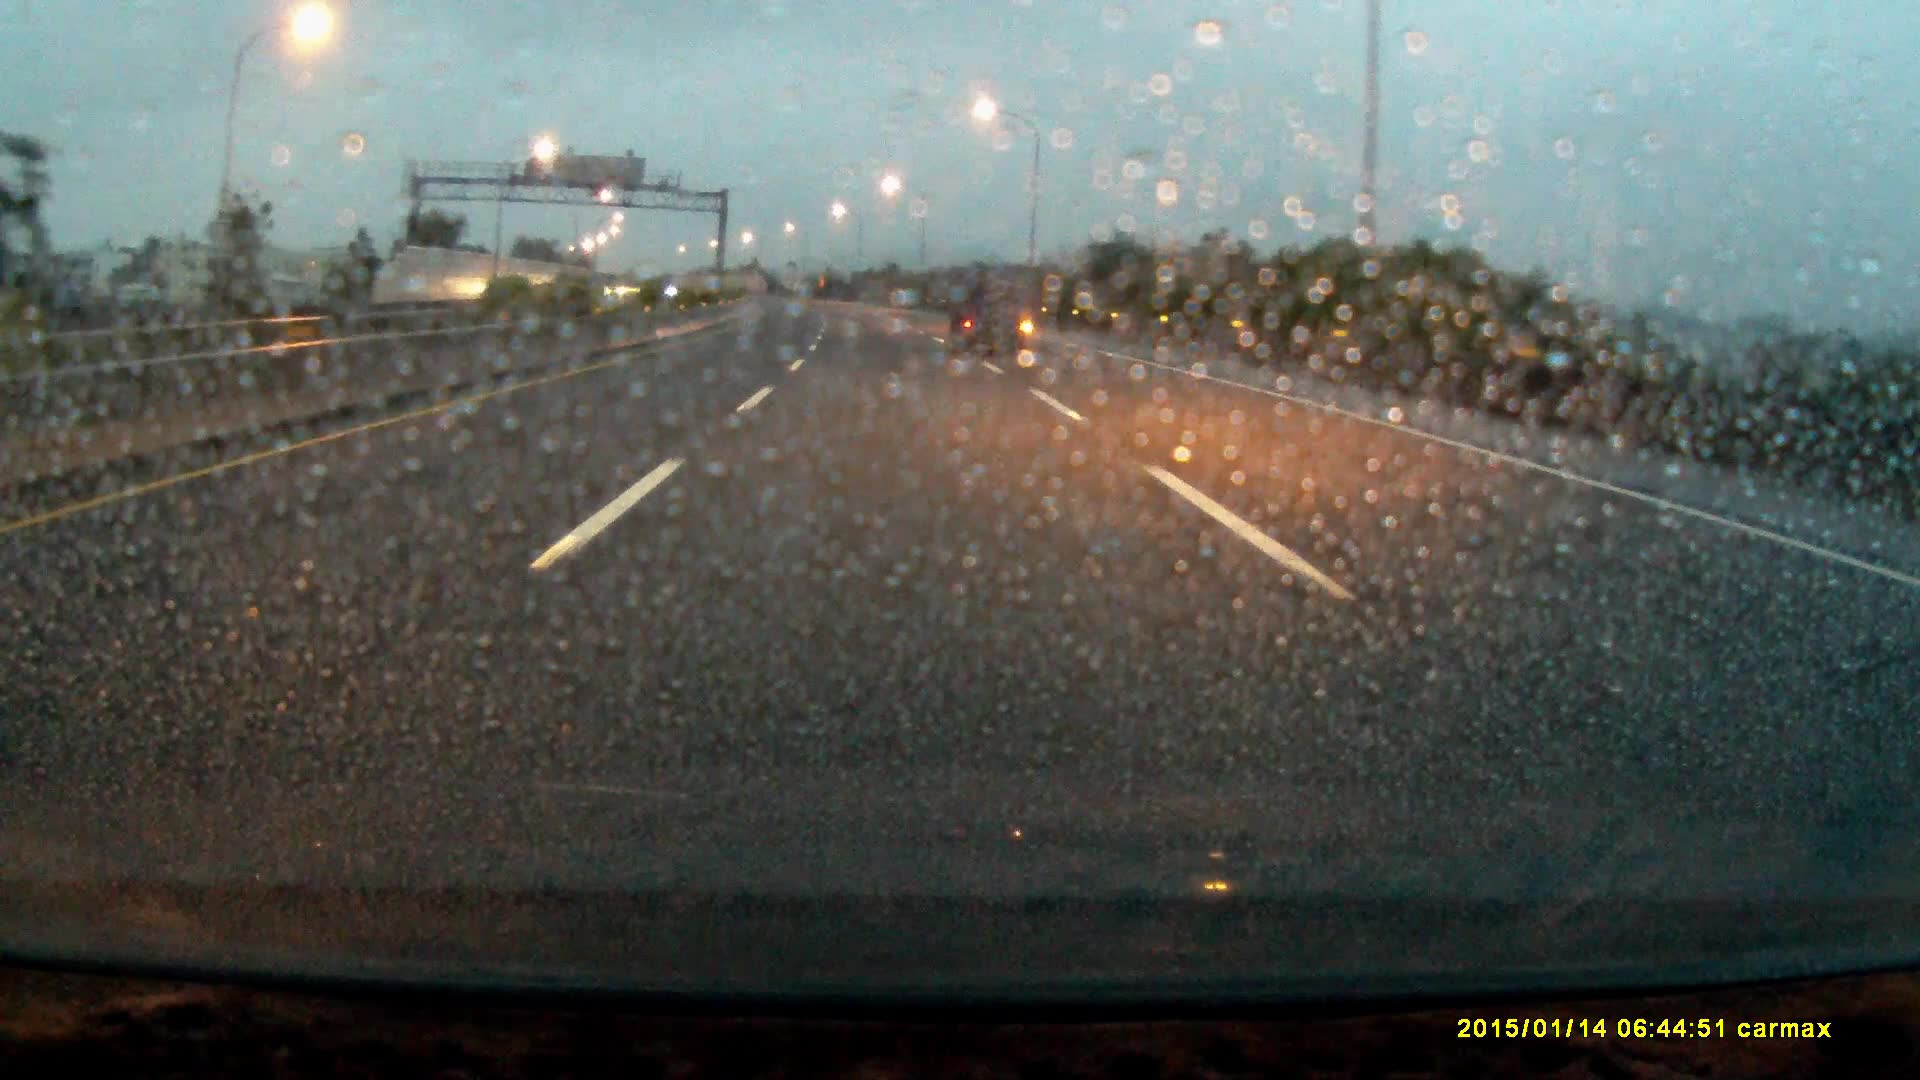vehicle: (948, 272, 1034, 360)
